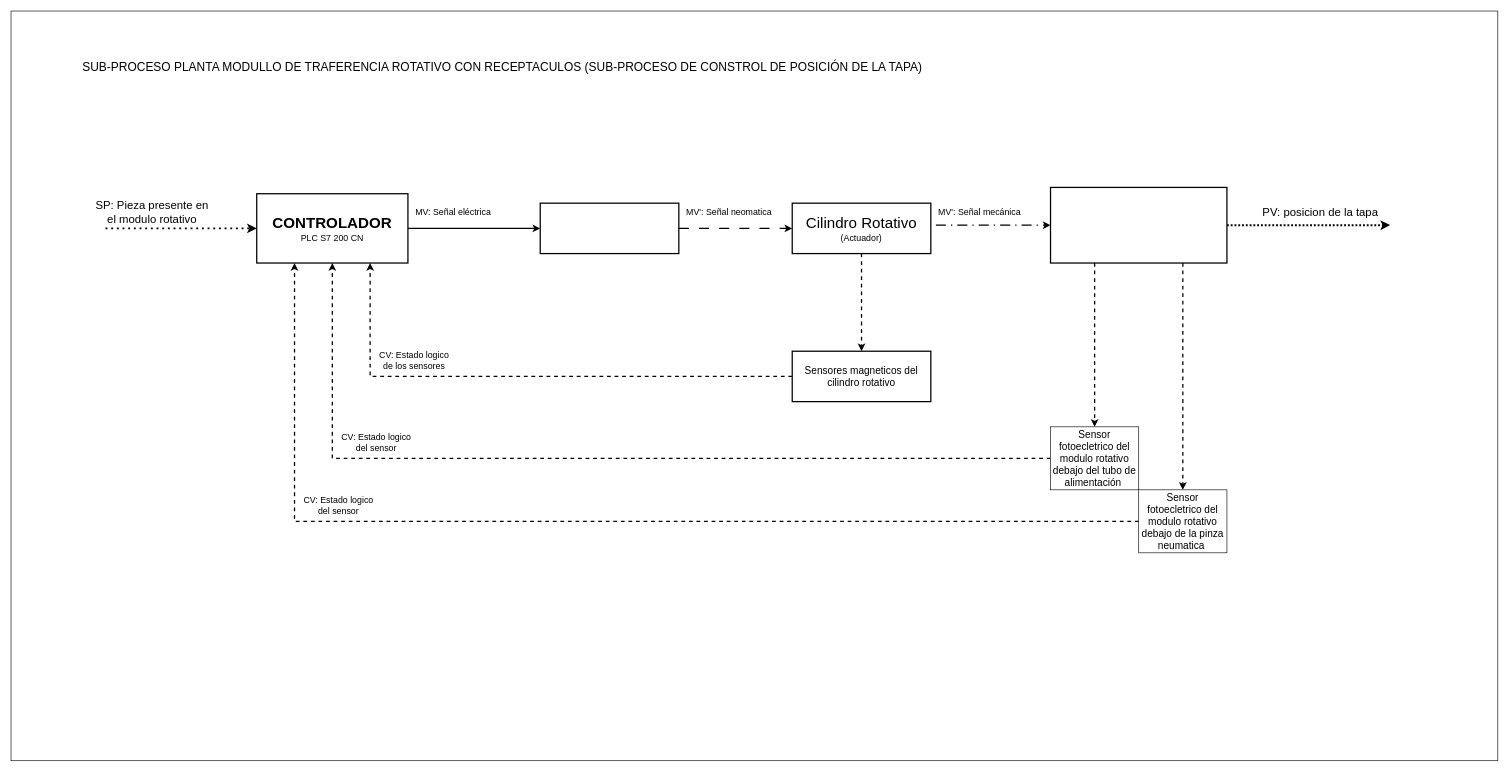
The diagram is 1509 pixels wide and 772 high, and some of its shapes have lost their labels. The centre of each missing label's shape, as x and y in pixels:
"Electrovalvula del cilindo rotativo (Accionador)" belongs at point (609, 228).
"Modulo de tranferencia rotativo con receptaculos (Planta)" belongs at point (1138, 224).
